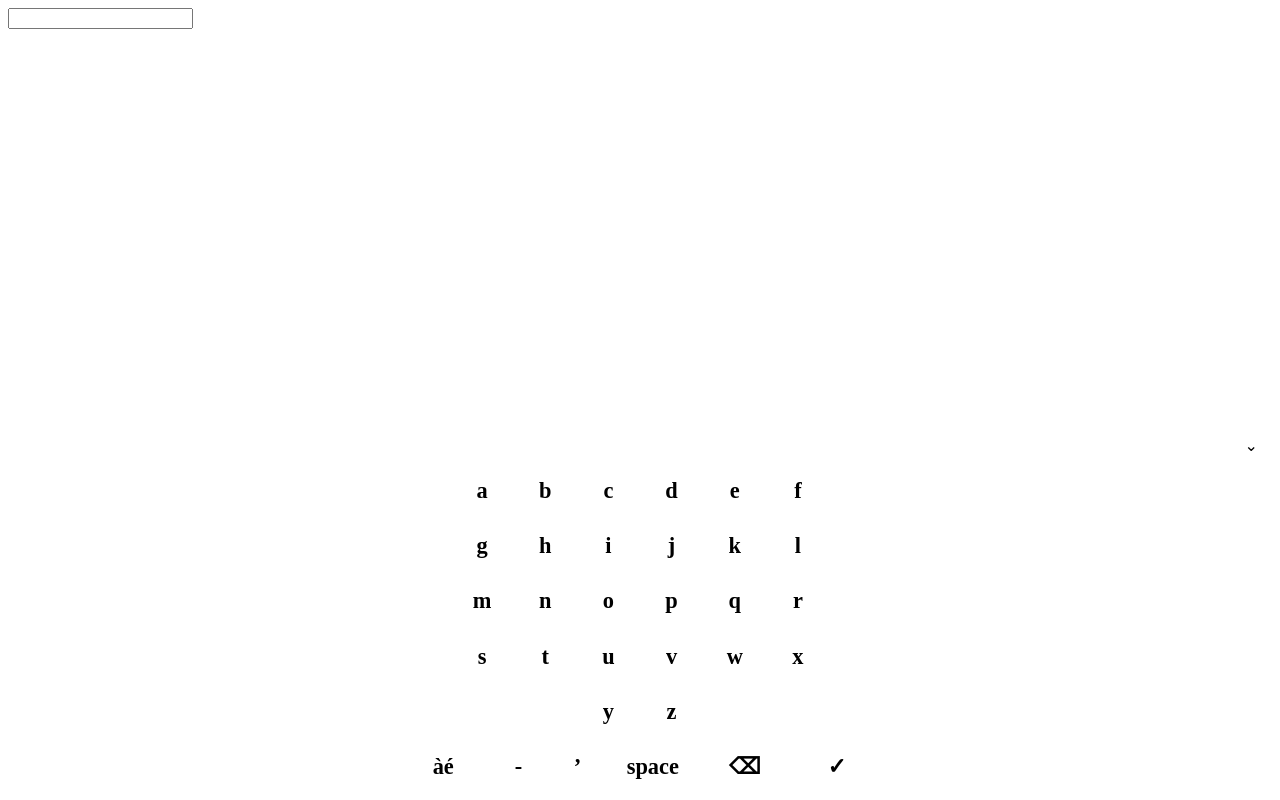
the spelling box on a tablet › reaches the accents behind a second layer, so plain words stay simple
The width and height of the screenshot is (1280, 800).
Click the button with aria-label "Accented letters".
click(443, 767)  # box [400,742,486,792]
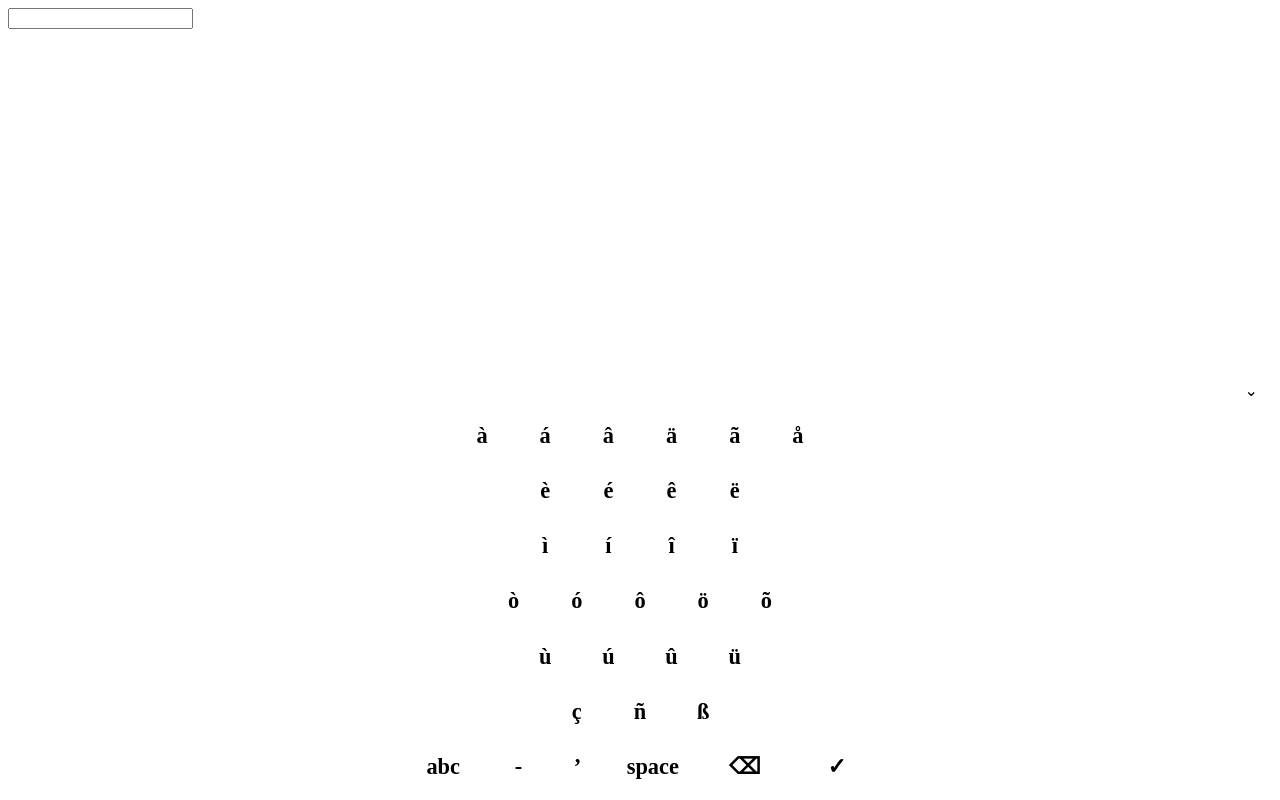
Click the button "é".
click(608, 491)  # box [580,466,637,516]
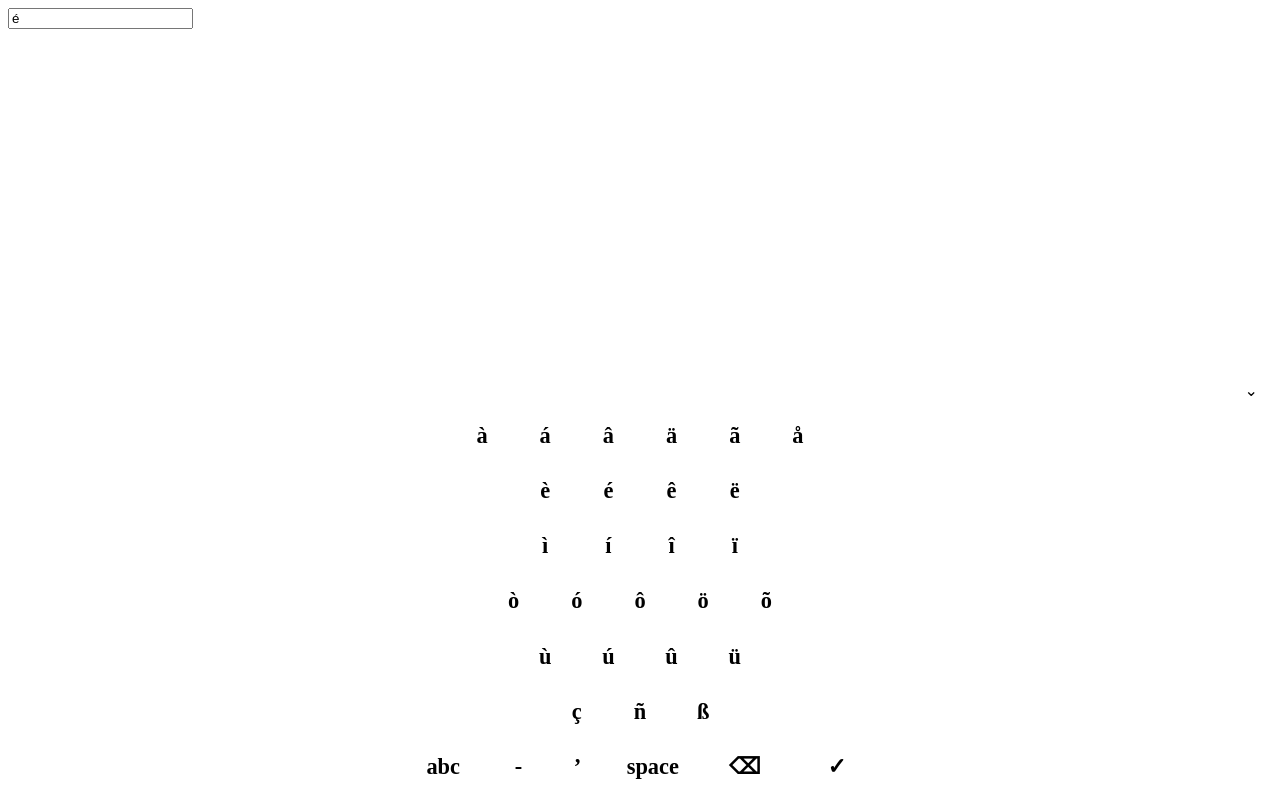
Click the button with aria-label "Back to letters".
click(443, 767)  # box [400,742,486,792]
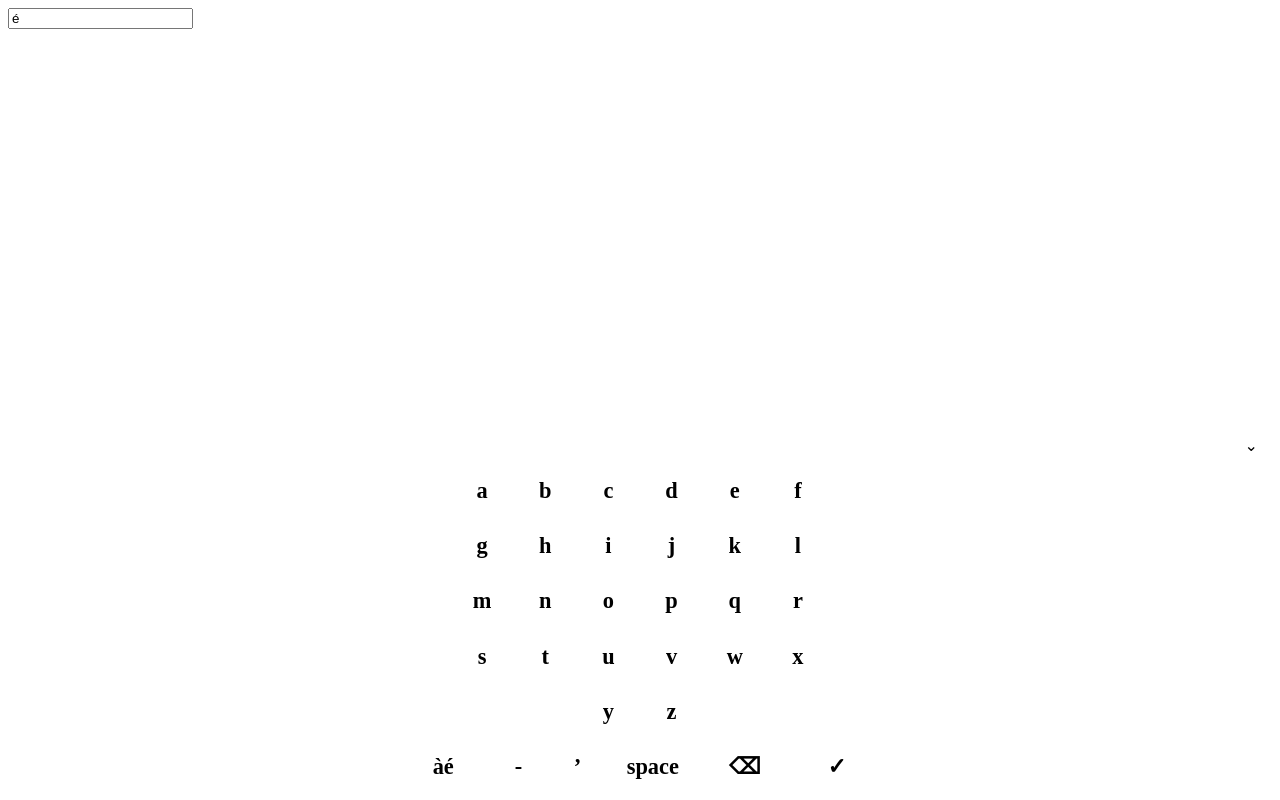
Click the button "a".
click(482, 491)  # box [453,466,511,516]
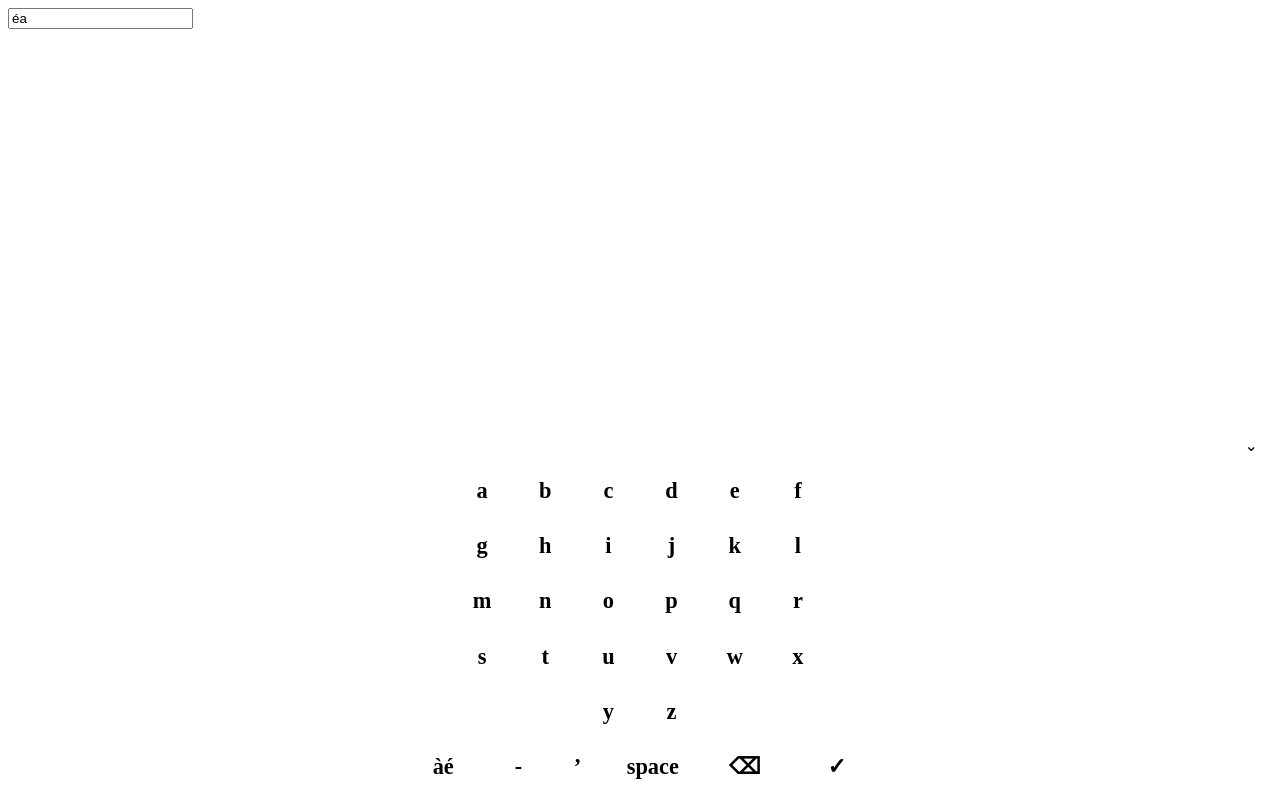
expect the field named "Spell the word" holds "éa": met, box [8,8,193,29]
